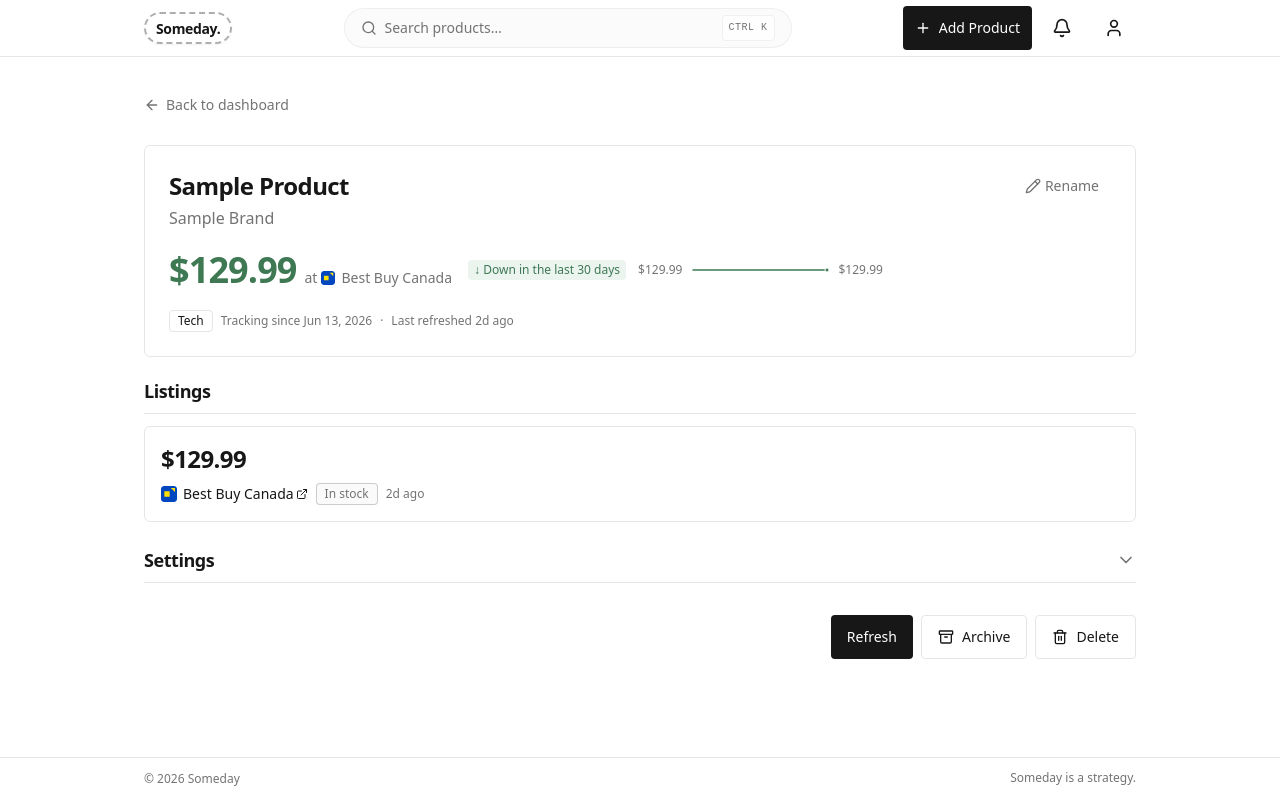
Test: ProductDetailPage › toggles settings fields when the section header is clicked
The width and height of the screenshot is (1280, 800).
Step 1. Click the button "Settings" → (179, 560), box top-left (144, 546), bottom-right (1136, 574)
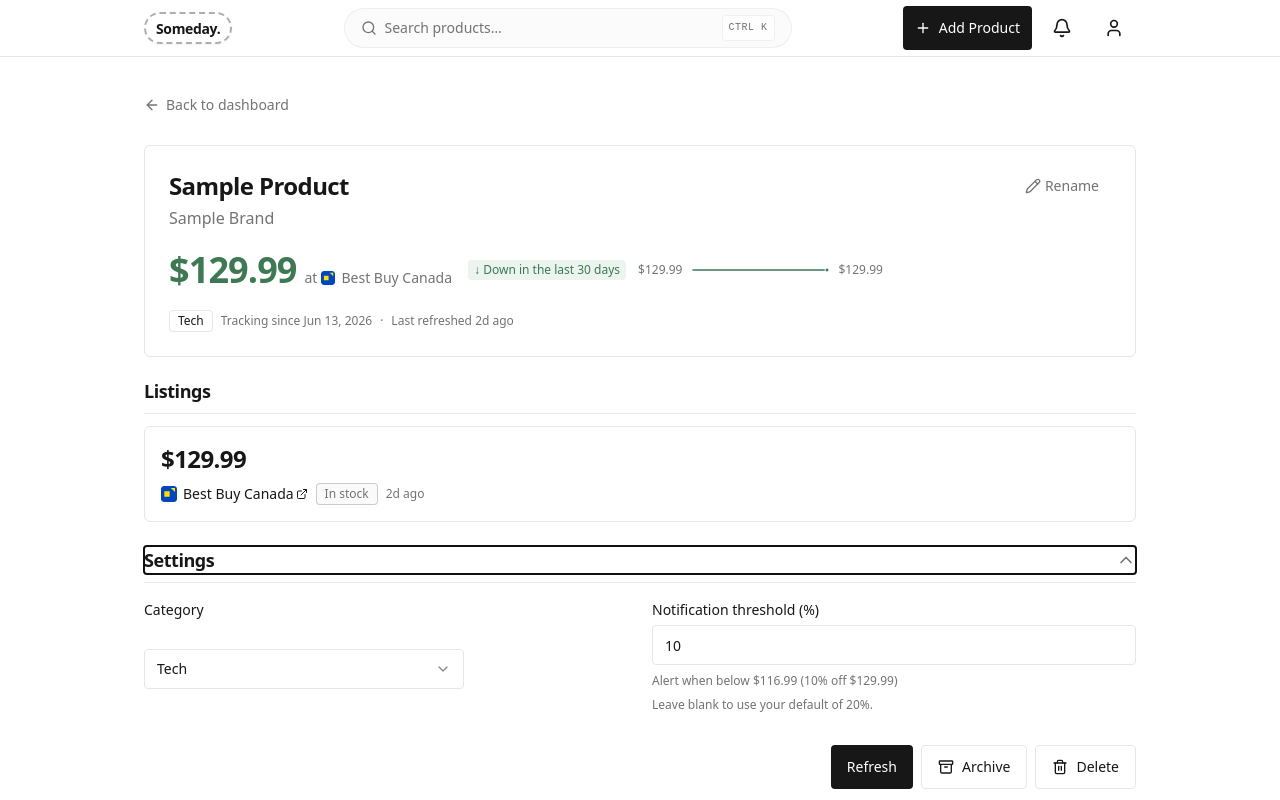
Result: the button "Settings" is expanded
Result: the number field labelled "Notification threshold (%)" is shown at top-left (652, 625), bottom-right (1136, 665)
Step 2. Click the button "Settings" → (179, 560), box top-left (144, 546), bottom-right (1136, 574)
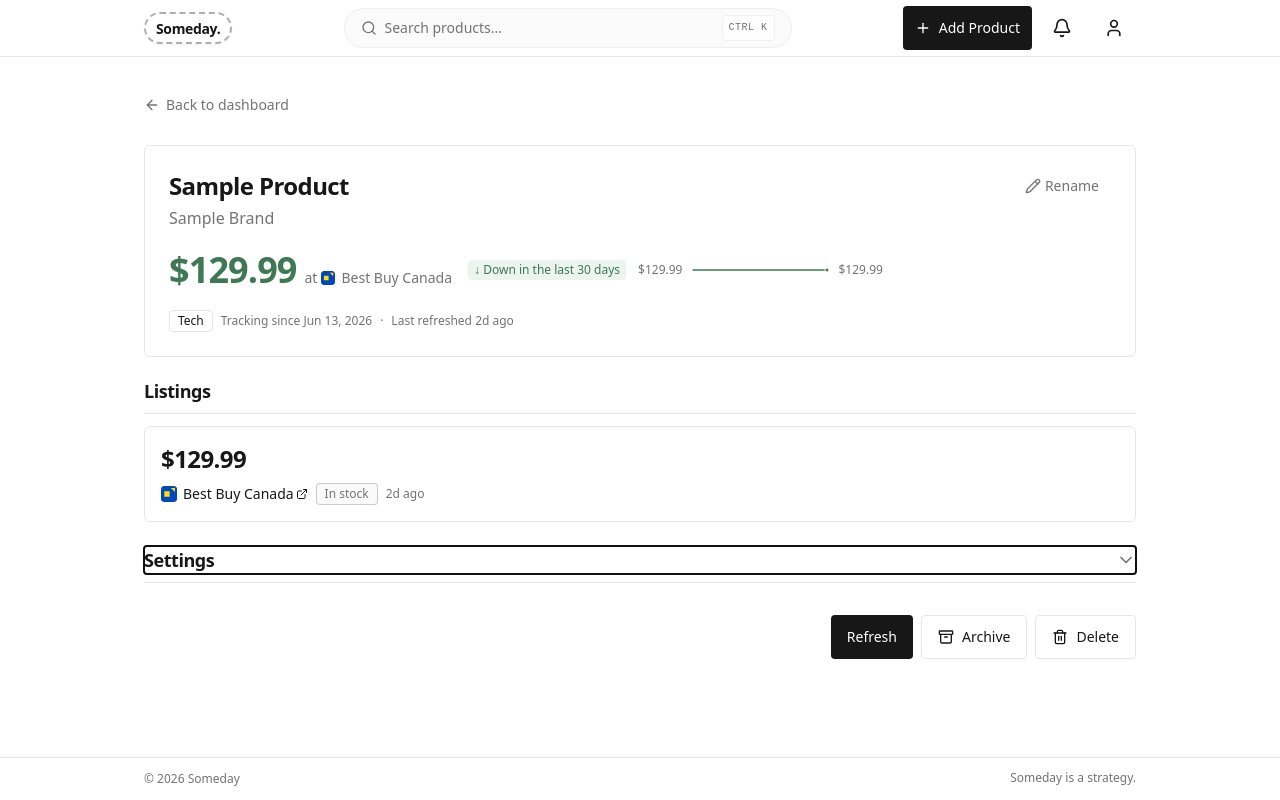
Result: the button "Settings" is collapsed at top-left (144, 546), bottom-right (1136, 574)
Result: the label labelled "Notification threshold" is gone
